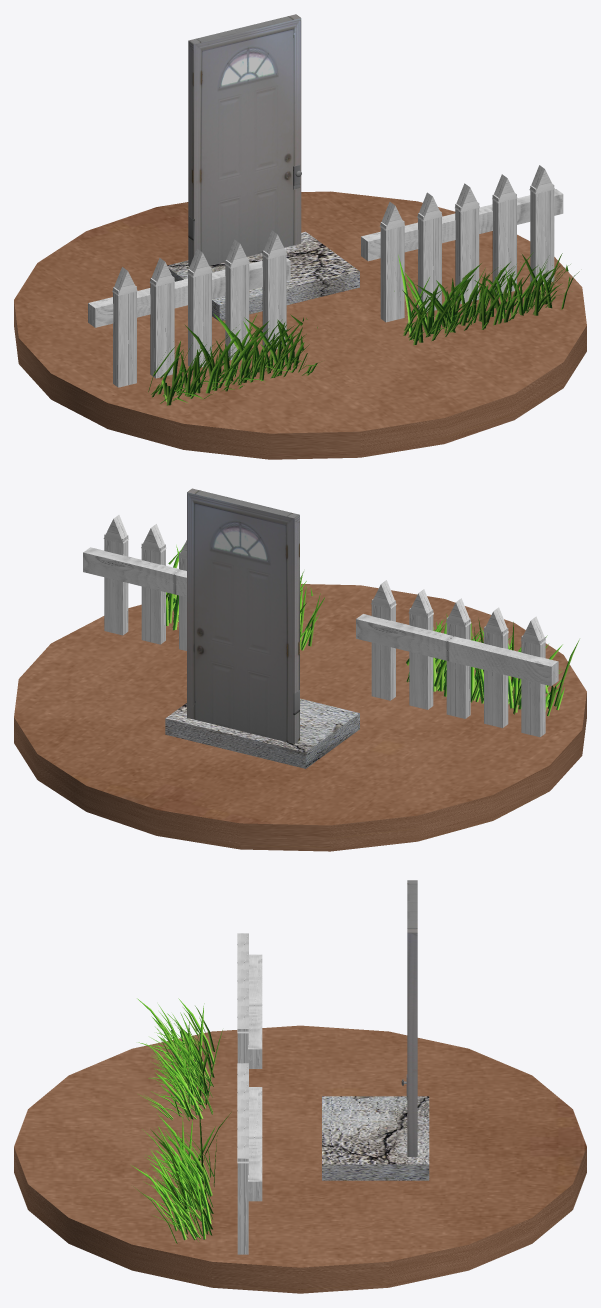
File: 1-2 door.obj
The picture shows the model from 3 angles, top to bottom: view 1: azimuth 30°, elevation 25°; view 2: azimuth 150°, elevation 25°; view 3: azimuth 270°, elevation 25°; orthographic projection.
Parts seen in each view (by area): view 1: polySurface671 polySurface670, polySurface1339, polySurface670 polySurface674, polySurface1340, polySurface670 polySurface680; view 2: polySurface671 polySurface670, polySurface670 polySurface674, polySurface1339, polySurface670 polySurface680, polySurface1340; view 3: polySurface671 polySurface670, polySurface1340, polySurface670 polySurface680, polySurface1339, polySurface670 polySurface674.
Boxes of the visible parts, <box> form: polySurface671 polySurface670: <box>14,191,586,459</box>; polySurface1339: <box>88,165,563,387</box>; polySurface670 polySurface674: <box>188,14,301,266</box>; polySurface1340: <box>148,252,579,405</box>; polySurface670 polySurface680: <box>167,231,359,321</box>; polySurface671 polySurface670: <box>14,584,586,851</box>; polySurface670 polySurface674: <box>187,488,299,743</box>; polySurface1339: <box>83,515,558,737</box>; polySurface670 polySurface680: <box>165,698,359,768</box>; polySurface1340: <box>166,545,579,716</box>; polySurface671 polySurface670: <box>14,1025,586,1293</box>; polySurface1340: <box>131,998,231,1243</box>; polySurface670 polySurface680: <box>322,1096,429,1180</box>; polySurface1339: <box>237,933,262,1254</box>; polySurface670 polySurface674: <box>407,880,417,1156</box>.
Bounding box in the file's own units: 640 × 328 × 640.
Materials: 7 (7 with a texture image).
